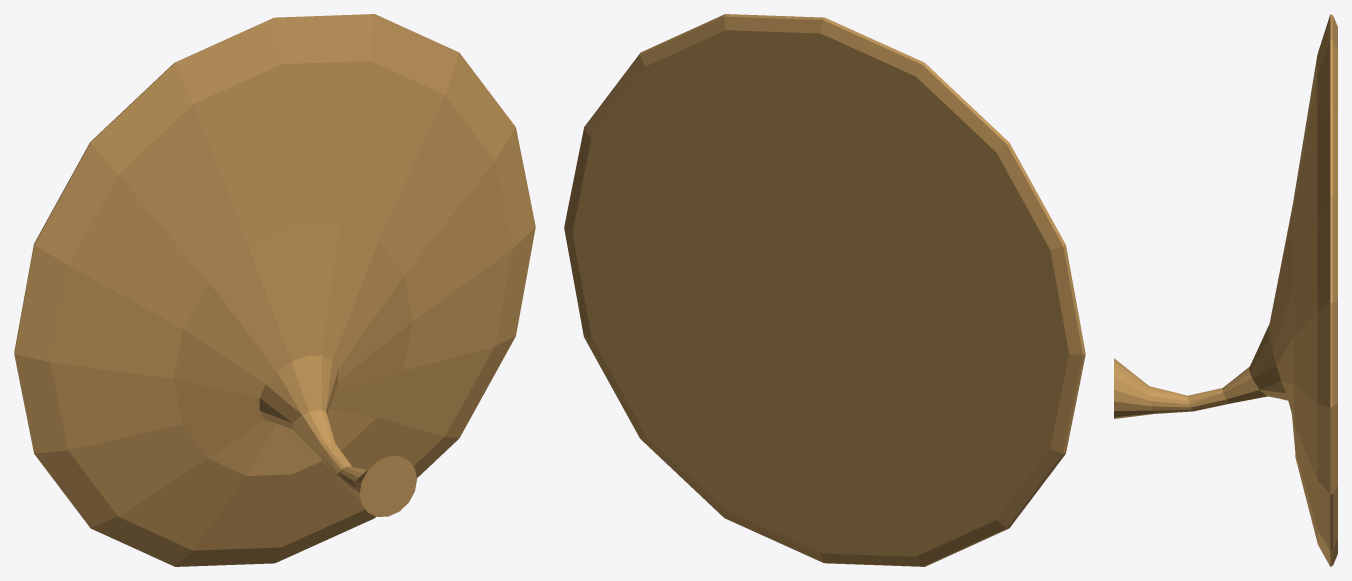
File: FlatCoral.fbx
The picture shows the model from 3 angles, left to right: view 1: azimuth 30°, elevation 25°; view 2: azimuth 150°, elevation 25°; view 3: azimuth 270°, elevation 25°; orthographic projection. The views are drawn at different scales.
Parts seen in each view (by area): view 1: Cylinder; view 2: Cylinder; view 3: Cylinder.
Boxes of the visible parts, x1,y1,x2,y2 form: Cylinder: (14,14,535,566); Cylinder: (564,14,1085,566); Cylinder: (1114,14,1337,566).
Size of the model in its own units: 360 by 360 by 146.
